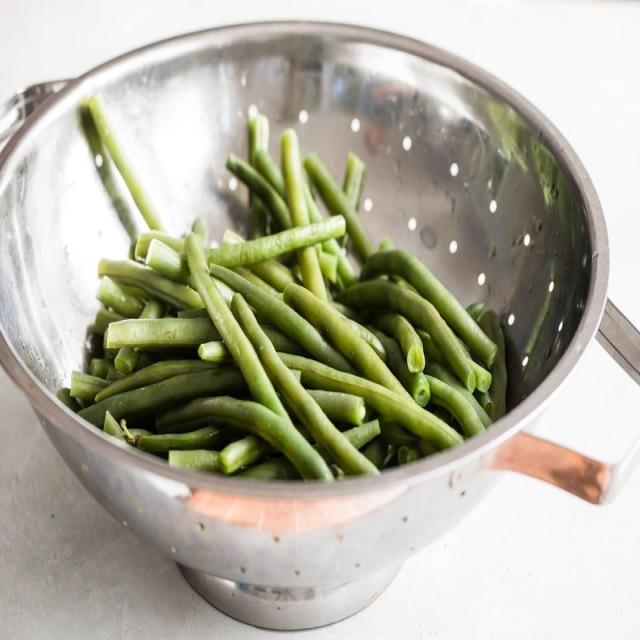Beans: (71, 87, 503, 507)
